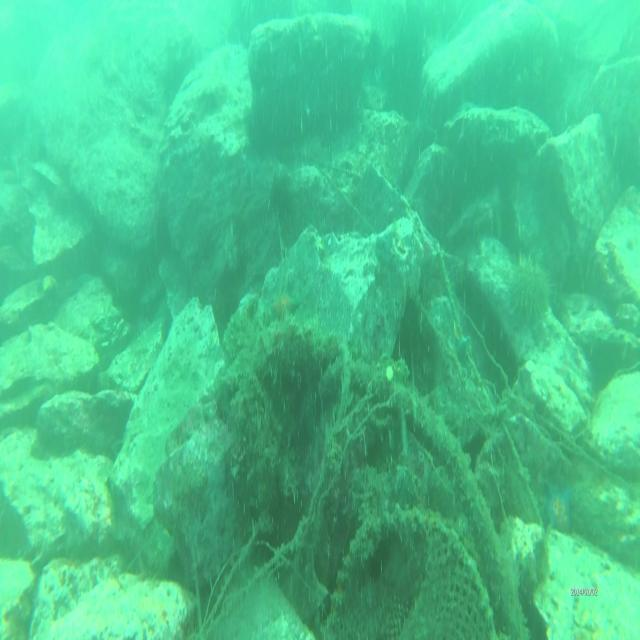echinus: (512, 262, 556, 323), (265, 178, 292, 212)
starfish: (544, 474, 573, 535), (270, 285, 301, 330)
